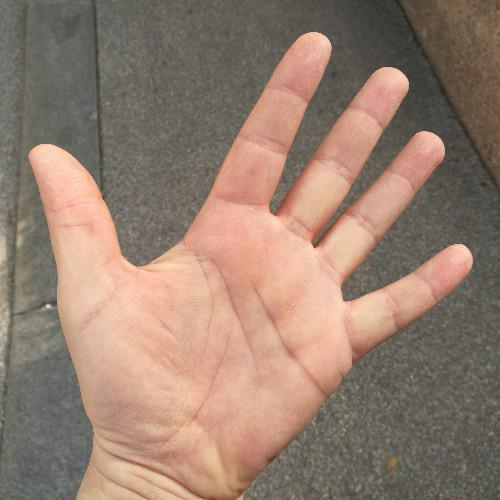paper: (14, 21, 489, 497)
